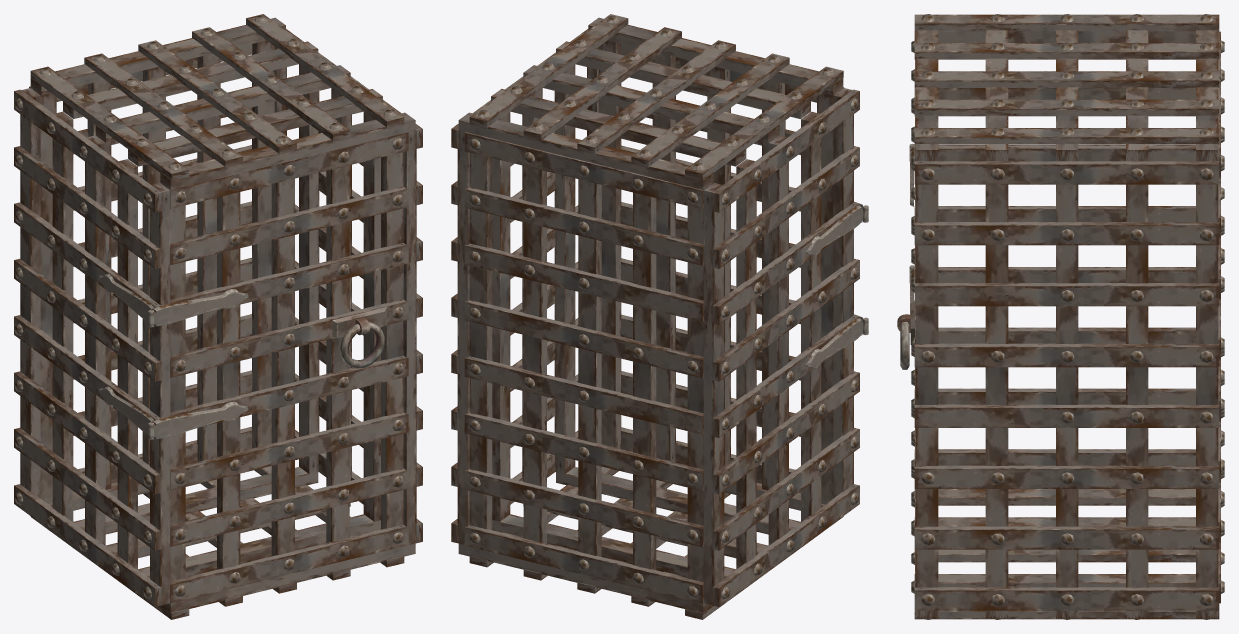
Rendered from Cage_Large_Worn.glb.
3 renders of one model, left to right at view 1: azimuth 30°, elevation 25°; view 2: azimuth 150°, elevation 25°; view 3: azimuth 270°, elevation 25°, orthographic. The views are drawn at different scales.
Visible parts, largest first — view 1: Cage_Large; view 2: Cage_Large; view 3: Cage_Large.
Boxes of the visible parts, x1,y1,x2,y2 form: Cage_Large: (14, 14, 422, 619); Cage_Large: (451, 14, 868, 619); Cage_Large: (897, 14, 1224, 619).
Bounding box in the file's own units: 0.8582 × 1.33 × 0.8096.
Materials: 1 (1 with a texture image).
